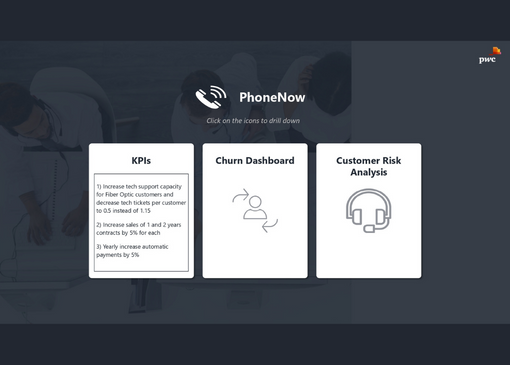

What the dashboard file says about the page in this screenshot:
{"tool":"powerbi","page":{"name":"Welcome","canvas":[1280,720],"ordinal":0},"visuals":[{"type":"textbox","box":[237.6,336.5,236.4,243.6],"z":0},{"type":"actionButton","box":[571.7,360.6,142.3,139.9],"z":1000},{"type":"actionButton","box":[850.3,360.6,142.3,139.9],"z":2000}]}

Visuals, with their boxes on the page's 1280x720 design canvas (x1, y1, x2, y2). These are canvas units, not pixel positions in the 510x365 screenshot, which may show the page scaled, cropped or inside an application window:
textbox: x1=238, y1=336, x2=474, y2=580
actionButton: x1=572, y1=361, x2=714, y2=500
actionButton: x1=850, y1=361, x2=993, y2=500
